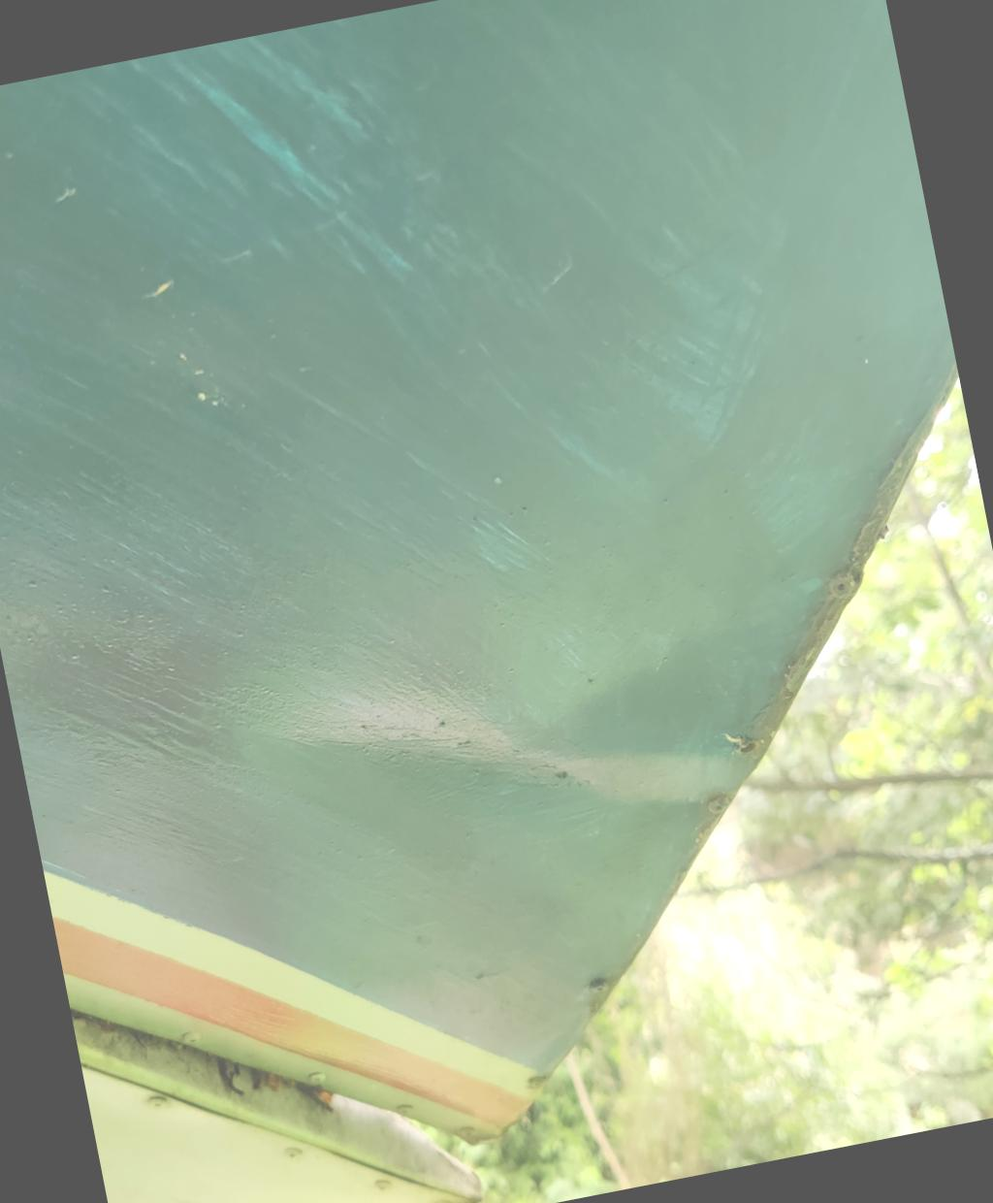dent: (223, 511, 825, 1004)
